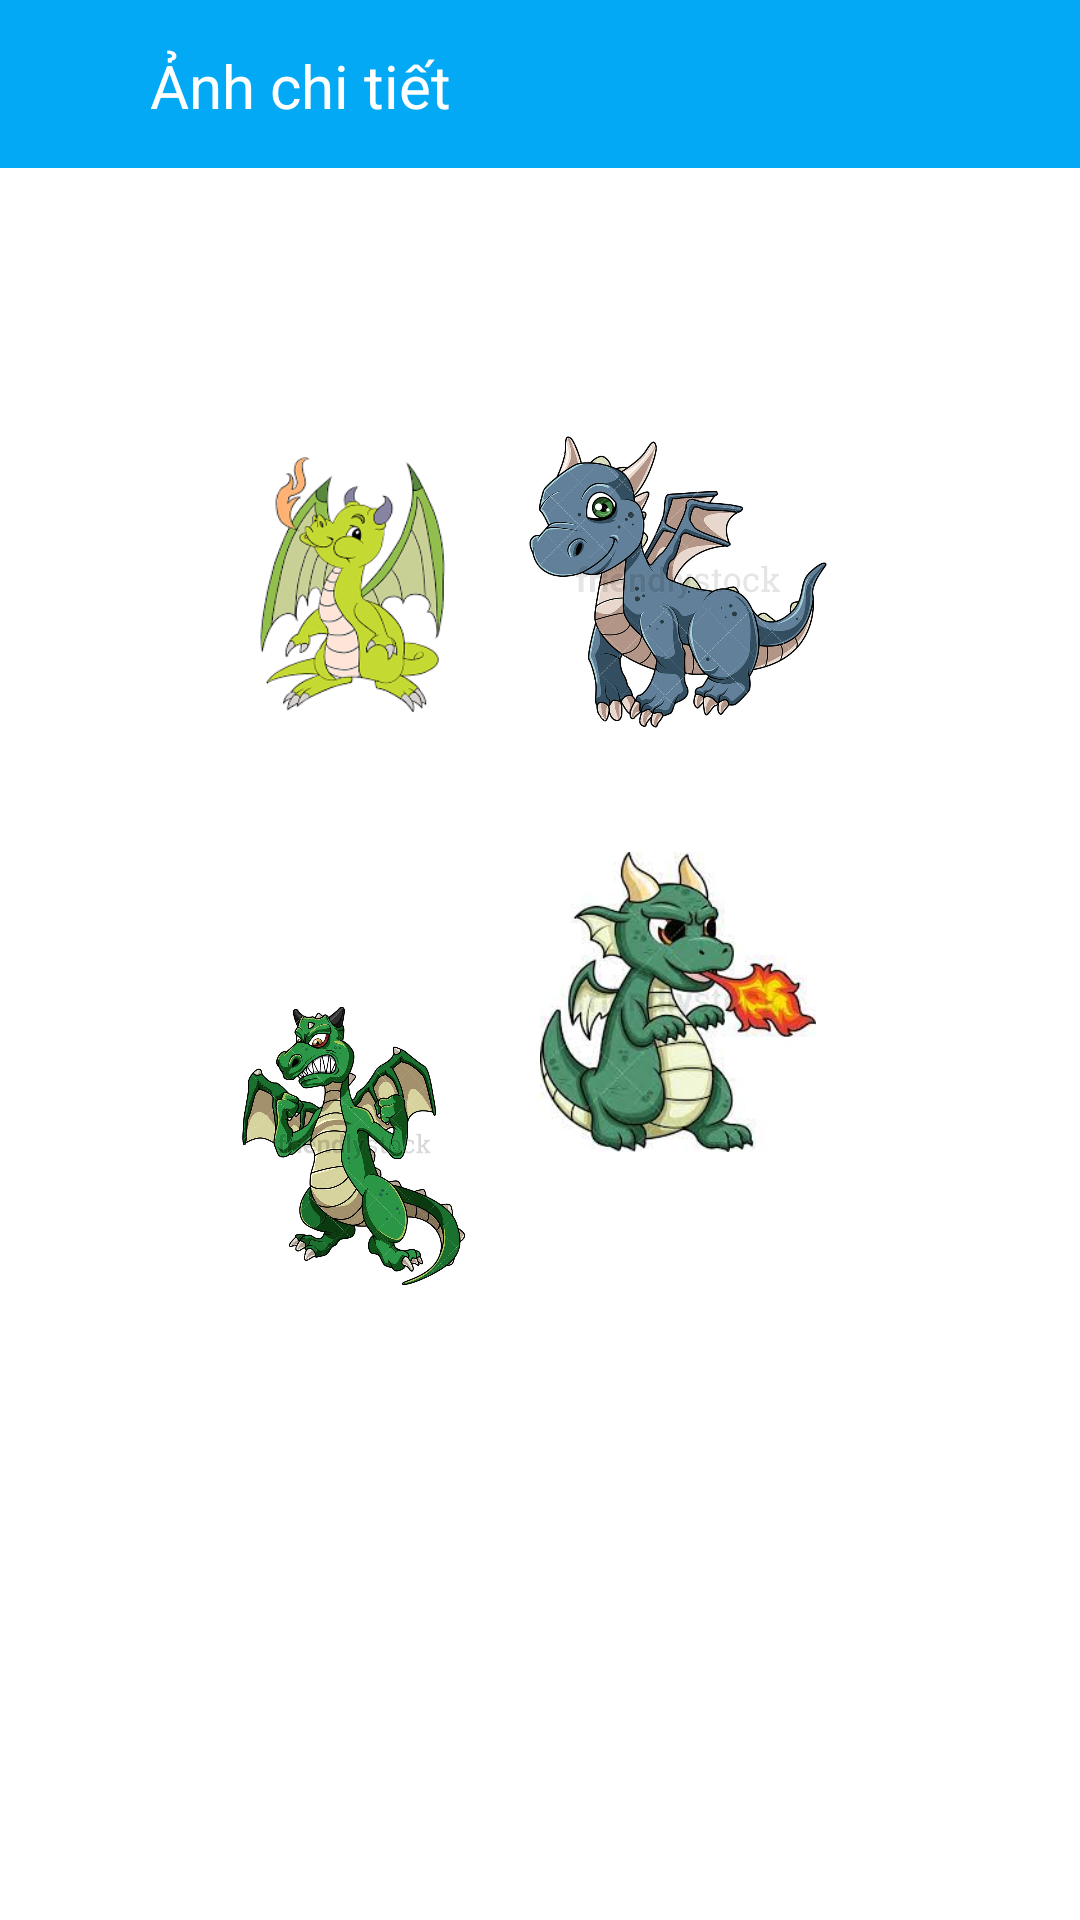

Screen size 1080px×1920px. Icon name, then its box in pixels as box(x1, y1, x2, y2):
rong: box(529, 436, 827, 728), box(260, 457, 445, 712), box(540, 852, 816, 1152), box(242, 1007, 465, 1285)
